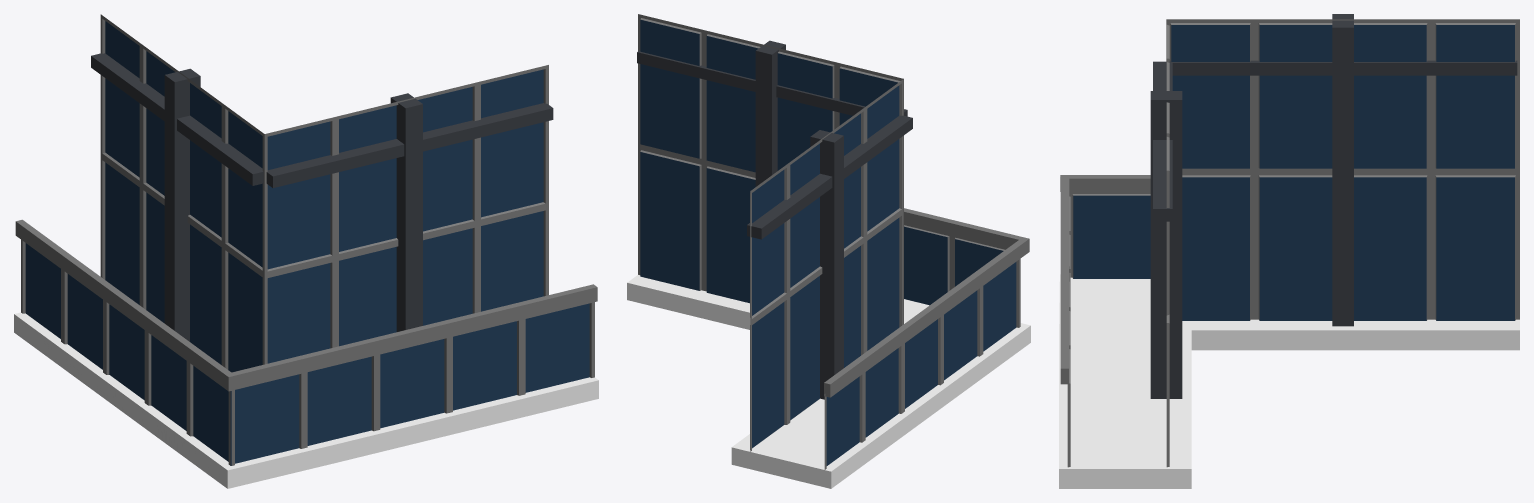
File: mid-c1_close.fbx
3 views of the same model, side by side, from view 1: azimuth 30°, elevation 25°; view 2: azimuth 150°, elevation 25°; view 3: azimuth 270°, elevation 25° (orthographic). The views are drawn at different scales.
Parts seen in each view (by area): view 1: M_Corner.008; view 2: M_Corner.008; view 3: M_Corner.008.
Part boxes in pixels (x1=…): M_Corner.008: x1=14, y1=14, x2=598, y2=488; M_Corner.008: x1=627, y1=14, x2=1030, y2=488; M_Corner.008: x1=1059, y1=14, x2=1519, y2=488.
Size of the model in its own units: 5.22 by 4 by 5.22.
